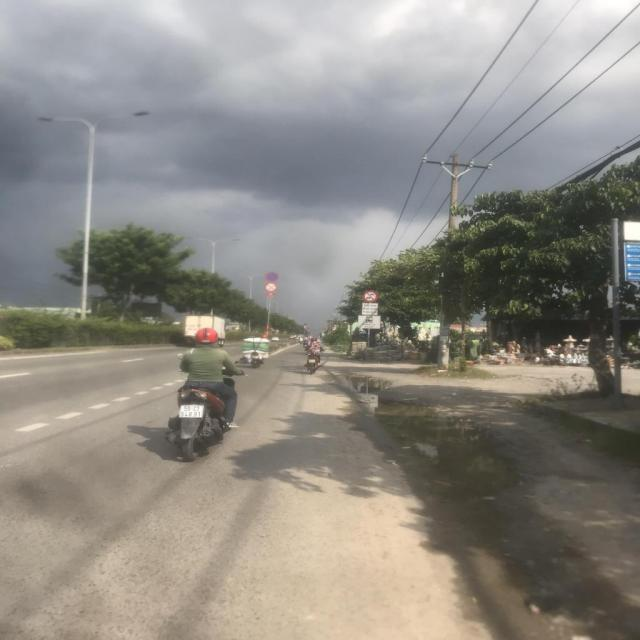107-cam-oto-khach-va-oto-tai: (362, 290, 379, 302)
